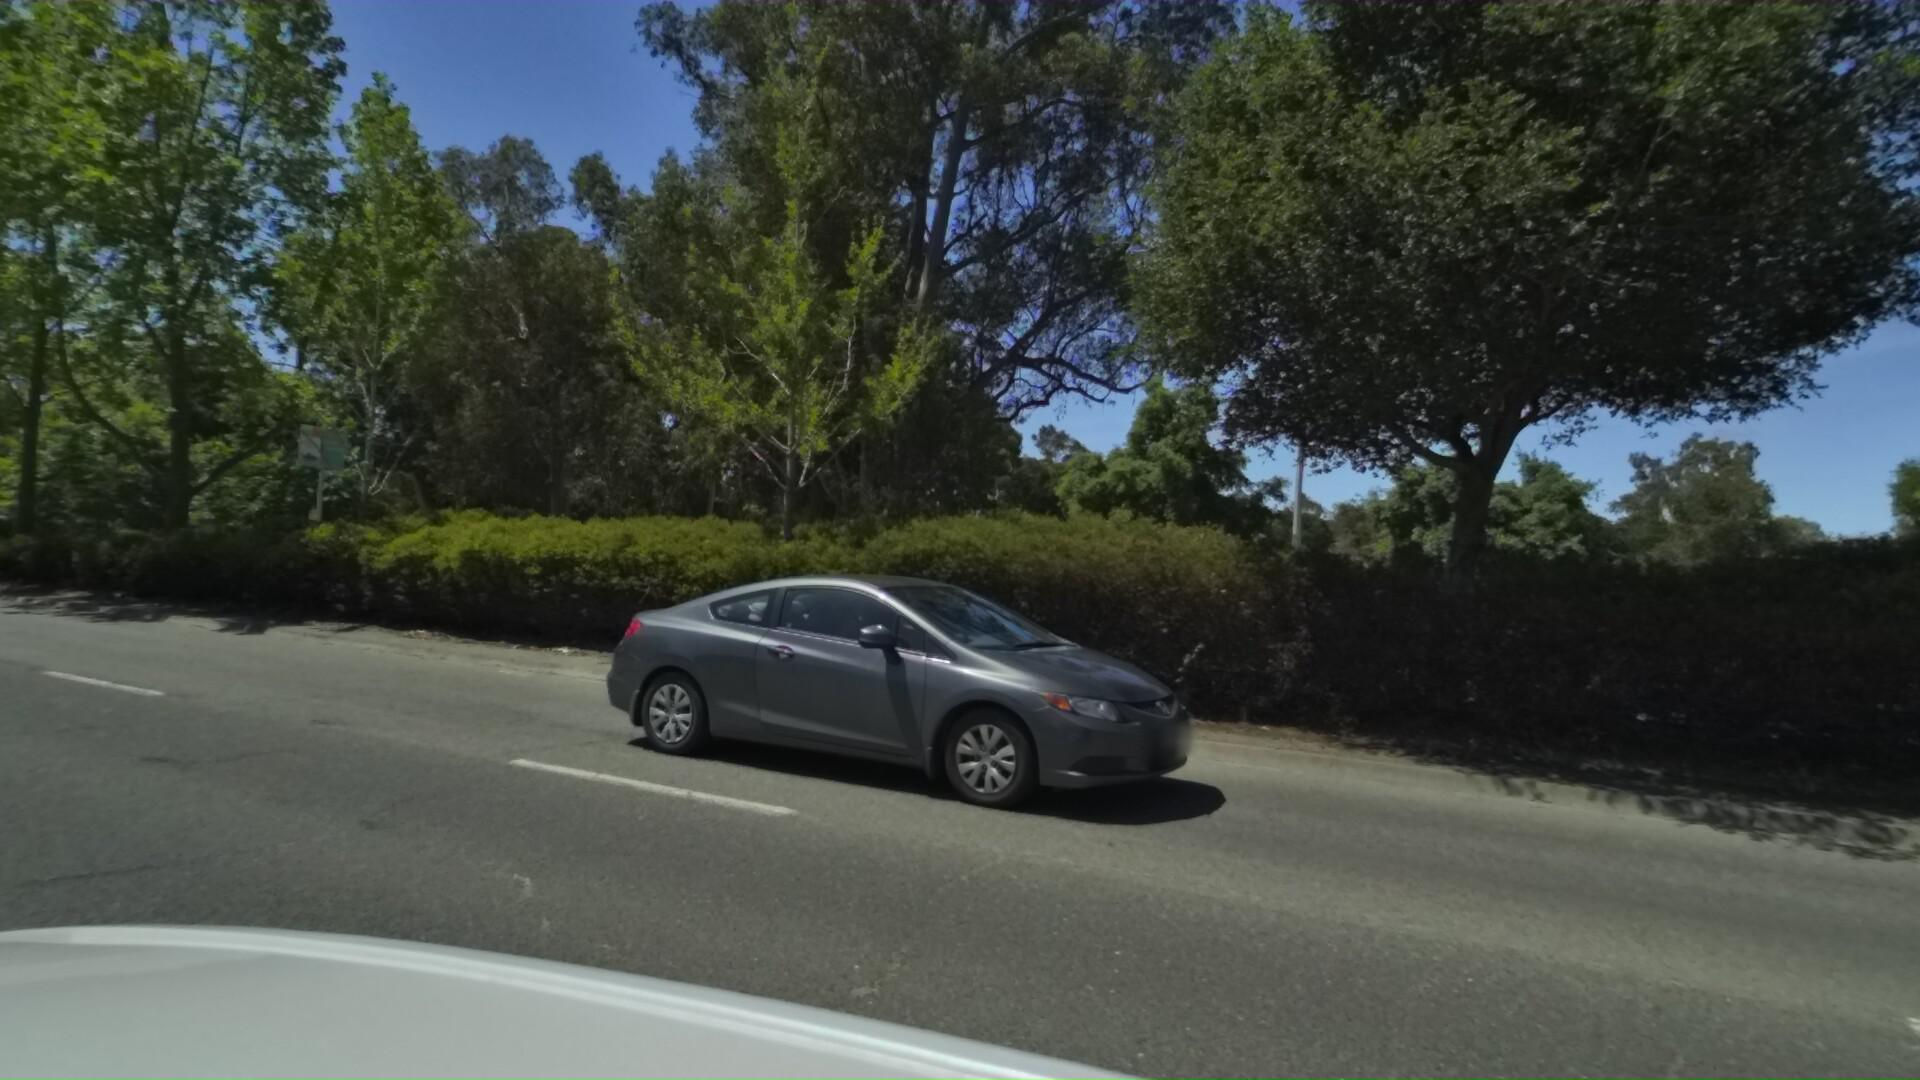car: (589, 553, 1271, 856), (0, 504, 13, 549)
